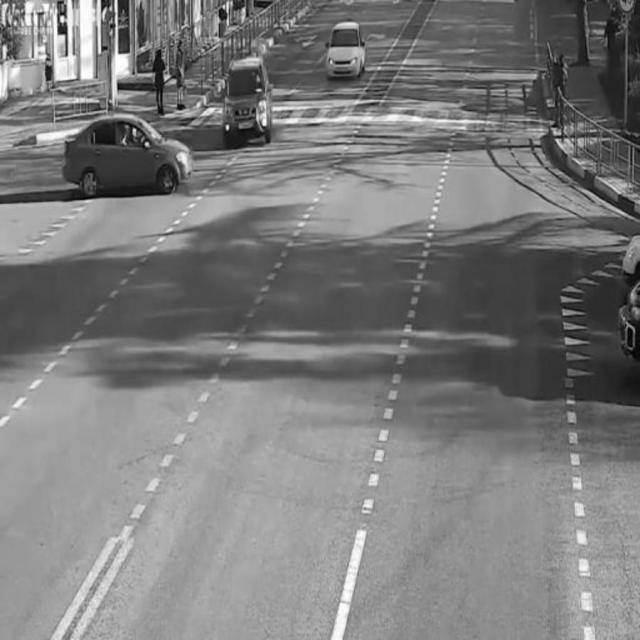person: (148, 50, 172, 117), (172, 30, 192, 103), (552, 49, 570, 120)
vehicle: (64, 115, 192, 196), (222, 56, 274, 146), (326, 17, 367, 78), (620, 268, 640, 366), (620, 229, 640, 283)
